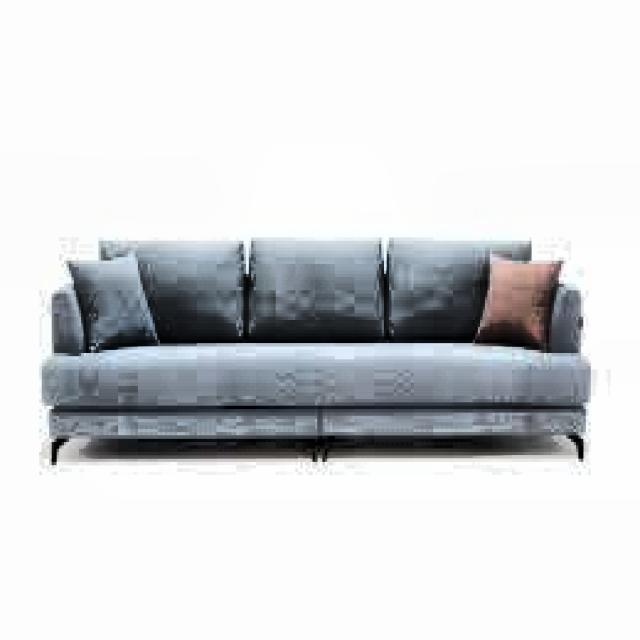sofa: (47, 234, 596, 472)
